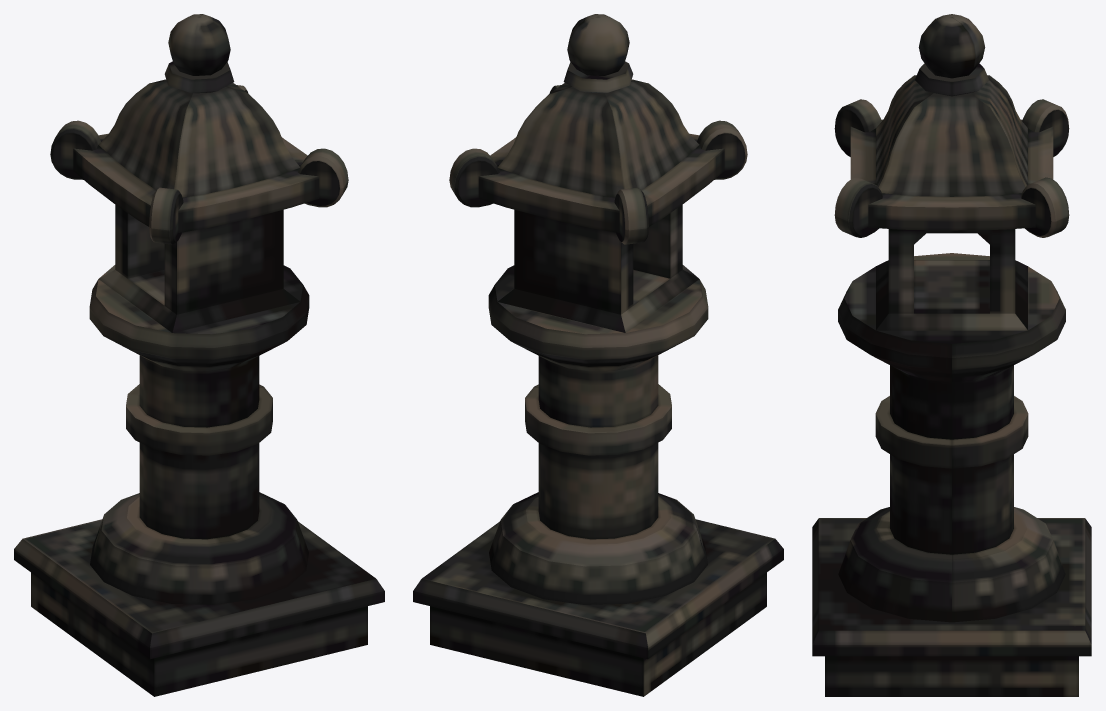
Rendered from EnvObjMD_Lantern_A.FBX.
3 renders of one model, left to right at view 1: azimuth 30°, elevation 25°; view 2: azimuth 150°, elevation 25°; view 3: azimuth 270°, elevation 25°, orthographic. The views are drawn at different scales.
Parts seen in each view (by area): view 1: EnvObjMD_Lantern_A; view 2: EnvObjMD_Lantern_A; view 3: EnvObjMD_Lantern_A.
Part boxes in pixels (bbox=[...]): EnvObjMD_Lantern_A: bbox=[14, 14, 384, 696]; EnvObjMD_Lantern_A: bbox=[413, 14, 783, 696]; EnvObjMD_Lantern_A: bbox=[812, 14, 1091, 696].
Bounding box in the file's own units: 110 × 272 × 110.
Materials: 1 (1 with a texture image).
